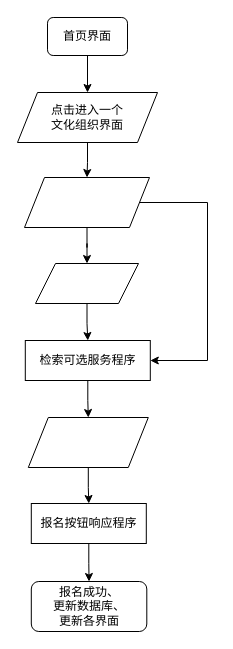
Image size: 233x649. Some labels were removed from this diagram. The box of each missing label's shape, as (x1, y1, x2, y2) in pixels:
勾选想要参加 的志愿活动: (27, 416, 148, 468)
点击切换 志愿服务界面: (24, 176, 150, 228)
选择日期: (34, 262, 138, 304)
